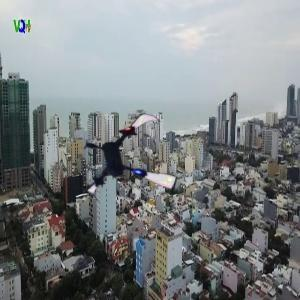drone: (78, 105, 184, 211)
